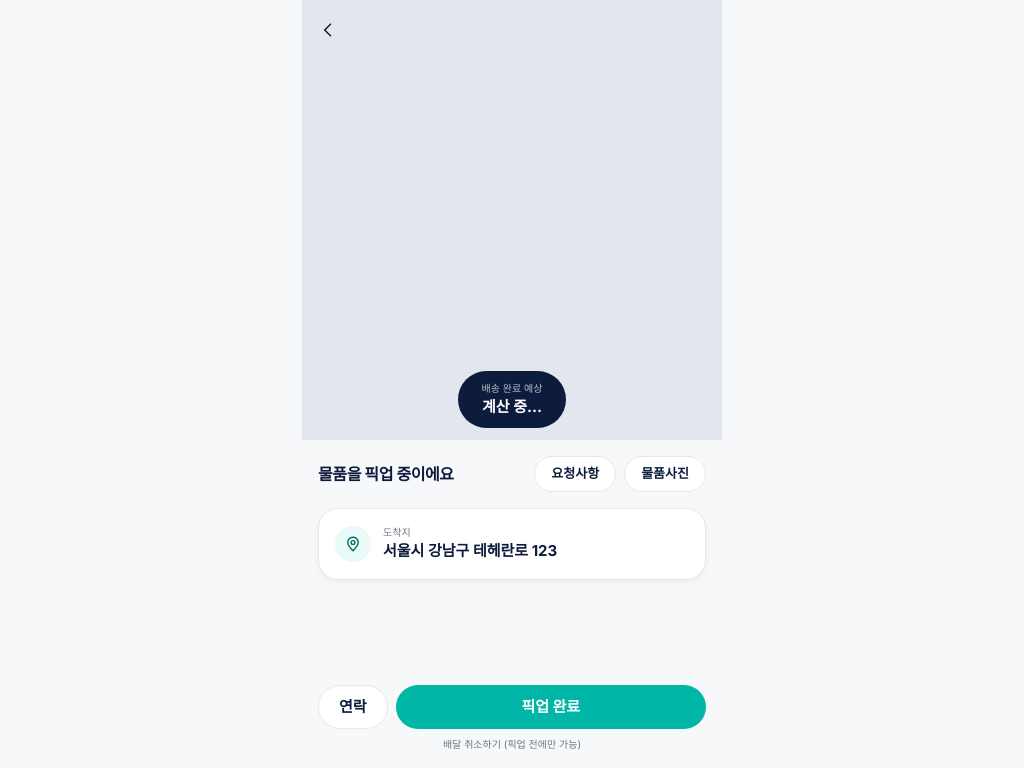
Test: DeliveryTrackScreen 이탈 경고 › 실_배달_중_뒤로가기를_누르면_경고_모달을_띄운다
The width and height of the screenshot is (1024, 768).
Expected: the text "배송 화면을 나갈까요?" is not shown
What coordinates should you click on to do the following:
click the button named "뒤로가기"
I would click on:
 (328, 33)
Its box is [318,20,338,46].
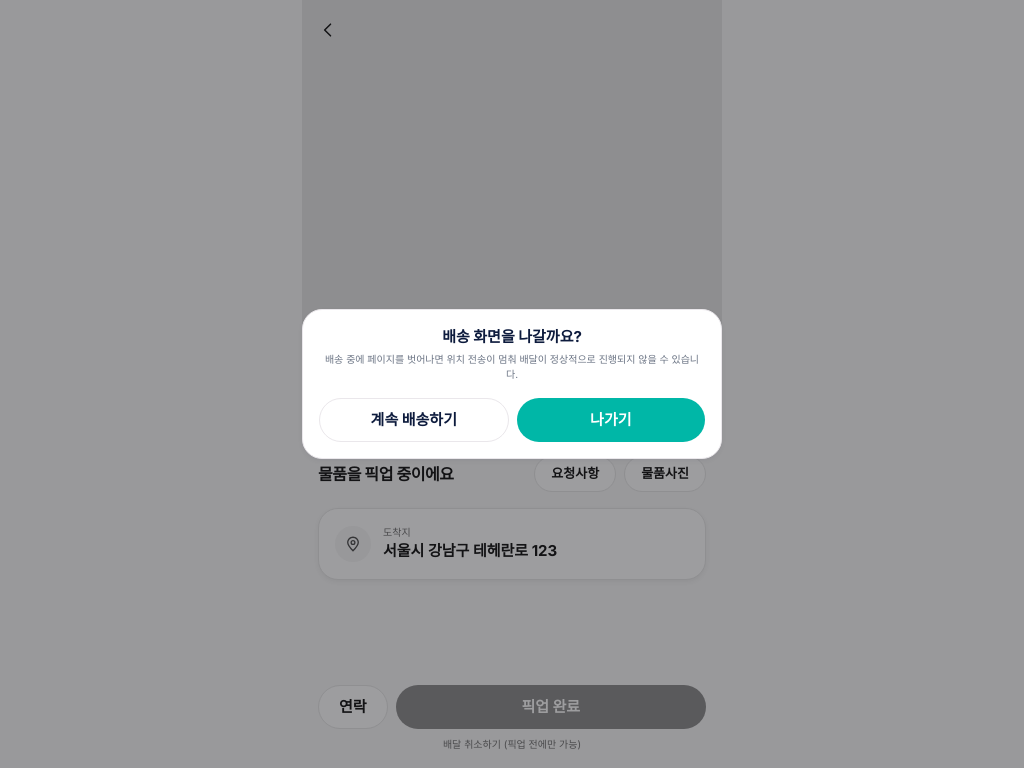
Expected: the heading "배송 화면을 나갈까요?" is shown, [442,327,582,346]
What coordinates should you click on to do the following:
click the button "계속 배송하기"
I would click on:
 (414, 420)
Its box is [319,398,509,442].
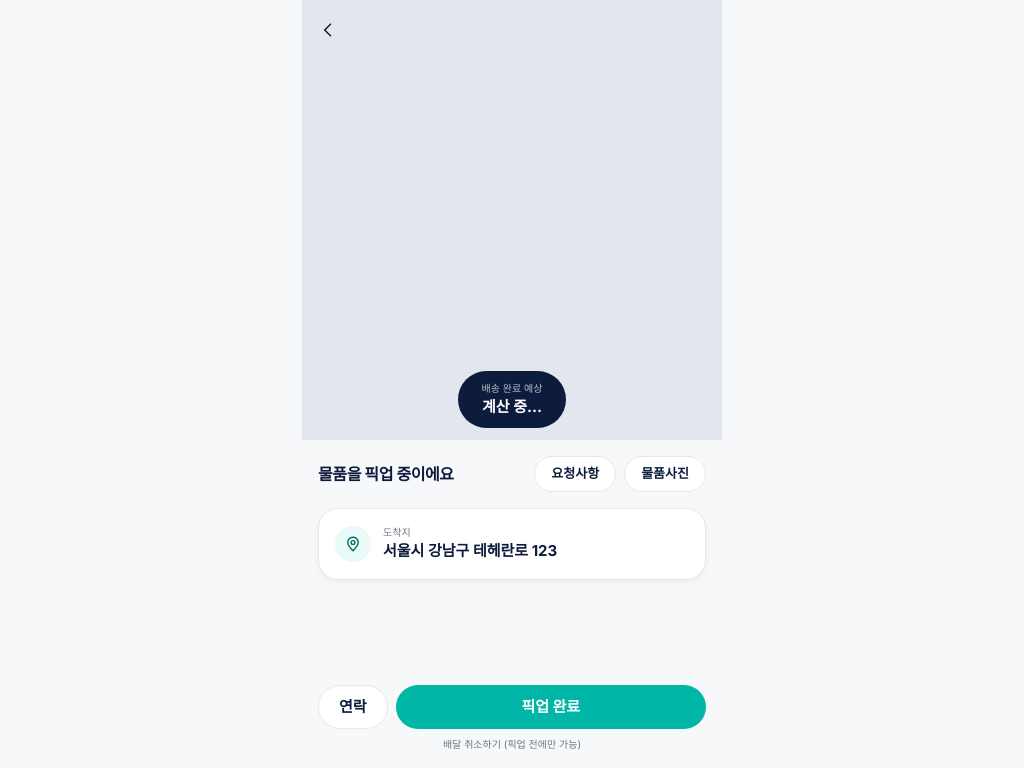
Expected: the heading "배송 화면을 나갈까요?" is gone
